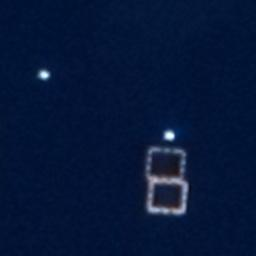square_solid: (143, 175, 191, 219), (143, 144, 187, 184)
